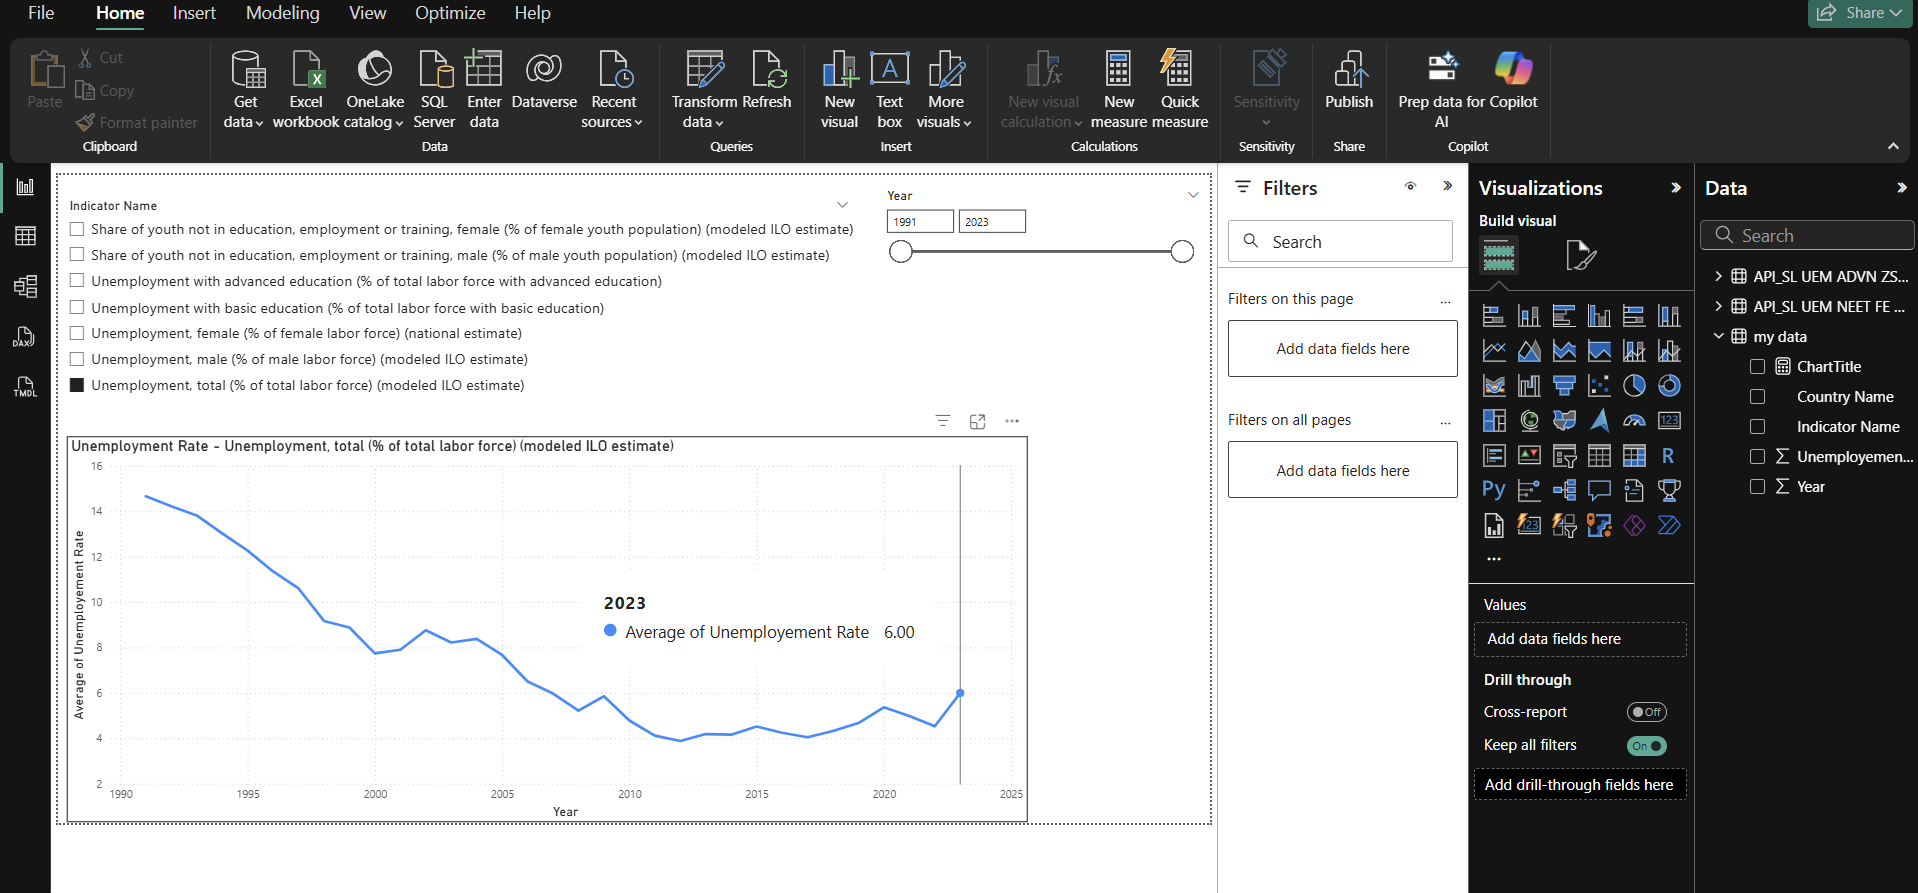

The dashboard page shown, as its layout file describes it:
{"tool":"powerbi","page":{"name":"Page 1","canvas":[1280,720],"ordinal":0},"visuals":[{"type":"slicer","fields":{"Values":["my data.Indicator Name"]},"box":[9.6,9.6,887.8,216.8],"z":0},{"type":"lineChart","fields":{"Category":["my data.Year"],"Y":["Avg(my data.Unemployement Rate)"]},"box":[10,290,1067.5,430],"z":1000},{"type":"slicer","fields":{"Values":["my data.Year"]},"box":[908,10,372,199],"z":1001}]}

Visuals, with their boxes on the page's 1280x720 design canvas (x1, y1, x2, y2). These are canvas units, not pixel positions in the 1918x893 screenshot, which may show the page scaled, cropped or inside an application window:
slicer - my data.Indicator Name: 10,10,897,226
lineChart - my data.Year x Avg(my data.Unemployement Rate): 10,290,1078,720
slicer - my data.Year: 908,10,1280,209
